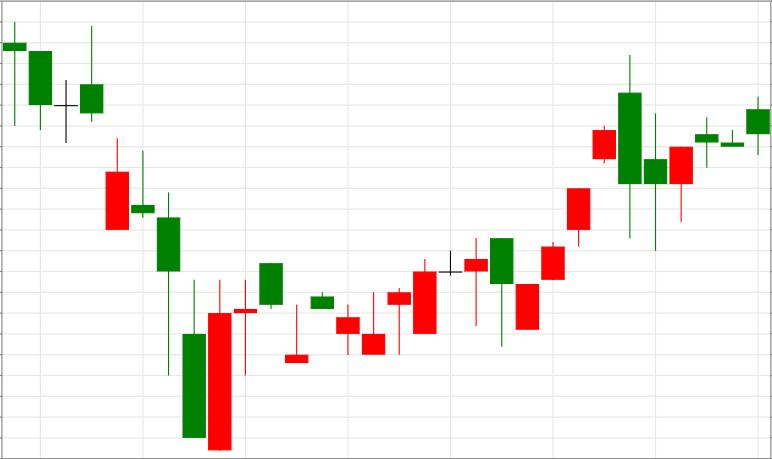bearish_engulfing_fall: (516, 56, 642, 330)
bullish_engulfing_rise: (3, 22, 232, 450)
